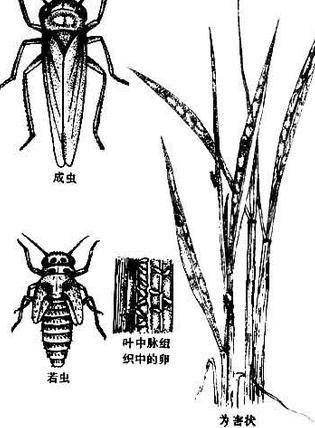pest: (35, 1, 95, 171), (31, 250, 85, 370), (220, 295, 235, 313), (208, 168, 218, 191)
